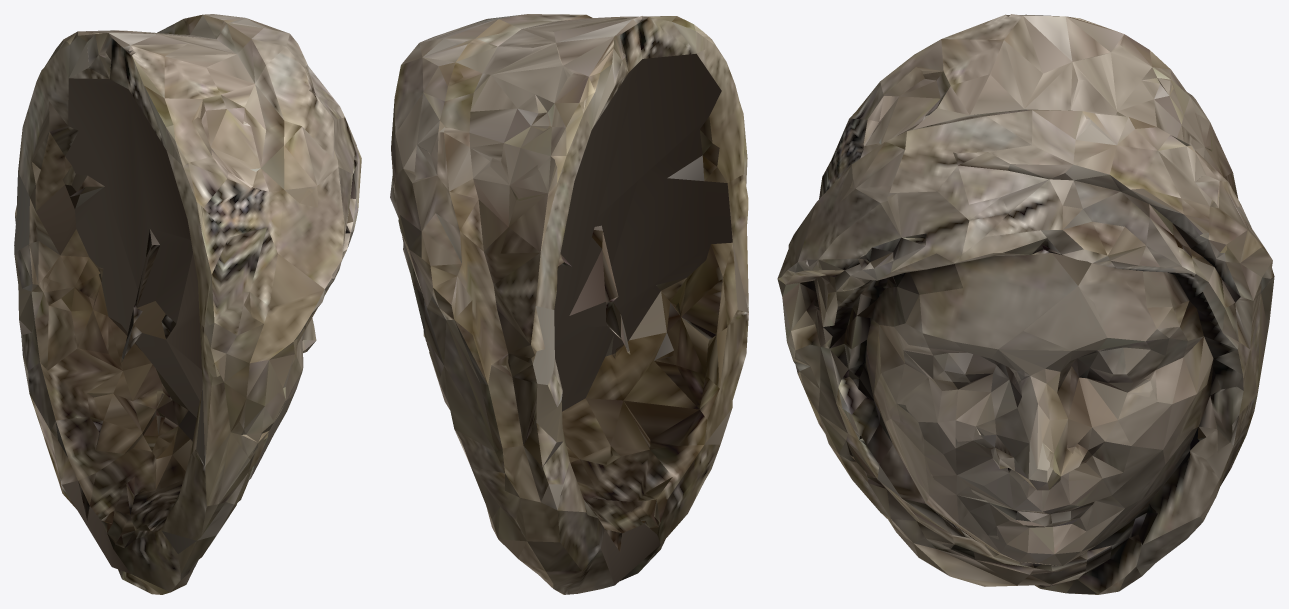
The model's file is st_wall_woman_mask.glb.
The picture shows the model from 3 angles, left to right: view 1: azimuth 30°, elevation 25°; view 2: azimuth 150°, elevation 25°; view 3: azimuth 270°, elevation 25°; orthographic projection. The views are drawn at different scales.
Visible parts, largest first — view 1: model; view 2: model; view 3: model.
Boxes of the visible parts, box(x1,y1,x2,y2) form: model: box(14, 14, 361, 594); model: box(390, 14, 748, 594); model: box(777, 14, 1274, 594).
Bounding box in the file's own units: 2.09 × 4.75 × 3.73.
Materials: 1 (1 with a texture image).
